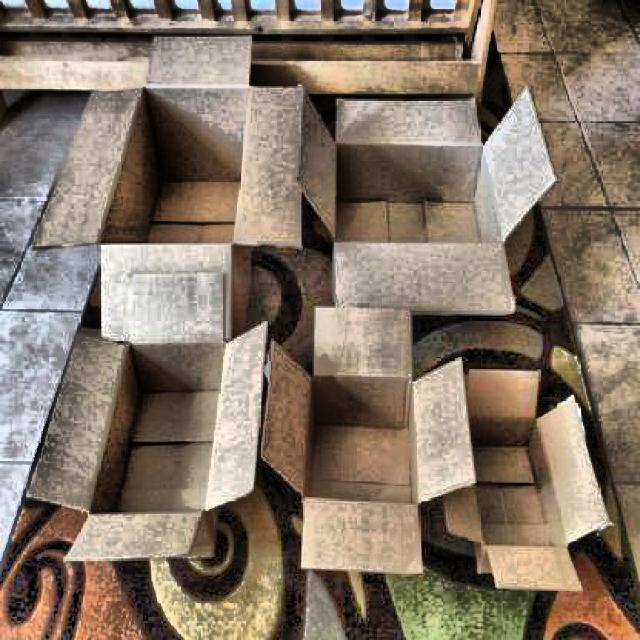Cardbox: (56, 32, 313, 342), (35, 301, 267, 588), (311, 72, 536, 328), (267, 311, 463, 581), (438, 370, 604, 600)
